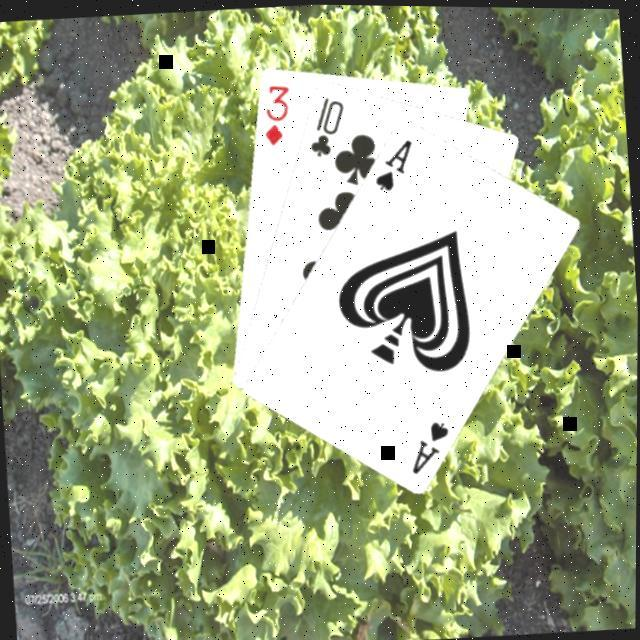10C: (302, 89, 349, 159)
3D: (256, 77, 295, 147)
AS: (404, 412, 454, 476), (367, 132, 417, 192)
